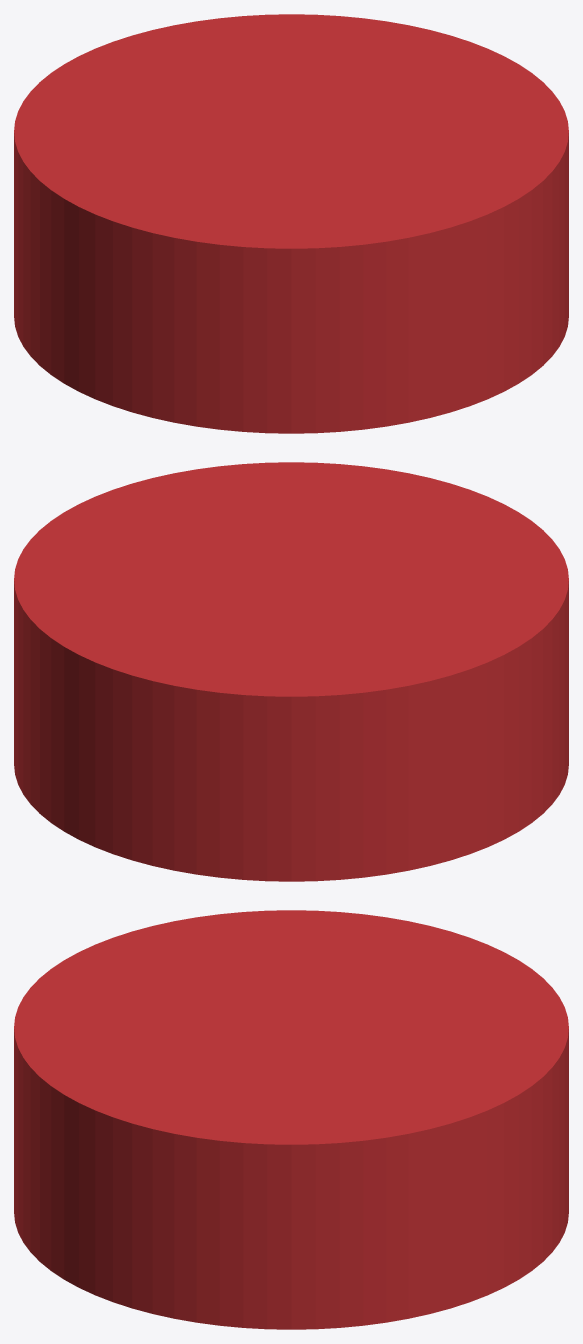
Rendered from Red Queen5.fbx.
3 views of the same model, one above another, from view 1: azimuth 30°, elevation 25°; view 2: azimuth 150°, elevation 25°; view 3: azimuth 270°, elevation 25° (orthographic).
Visible parts, largest first — view 1: Red Queen; view 2: Red Queen; view 3: Red Queen.
Boxes of the visible parts, x1,y1,x2,y2 form: Red Queen: (14,14,568,433); Red Queen: (14,462,568,881); Red Queen: (14,910,568,1329).
Bounding box in the file's own units: 57.81 × 21.25 × 57.8.
